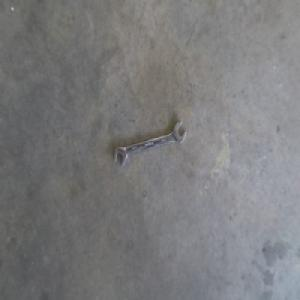Wrench: (112, 119, 189, 169)
